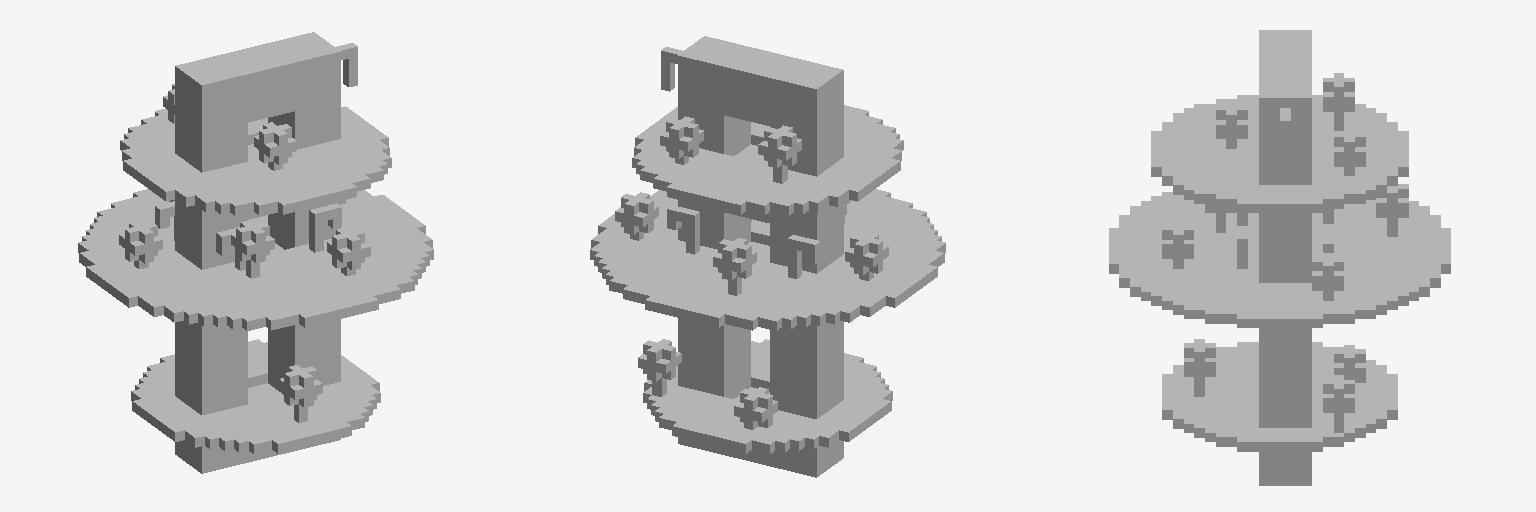
File: vrjam01_gardencity.obj
3 views of the same model, side by side, from view 1: azimuth 30°, elevation 25°; view 2: azimuth 150°, elevation 25°; view 3: azimuth 270°, elevation 25° (orthographic).
Size of the model in its own units: 32 by 40 by 32.